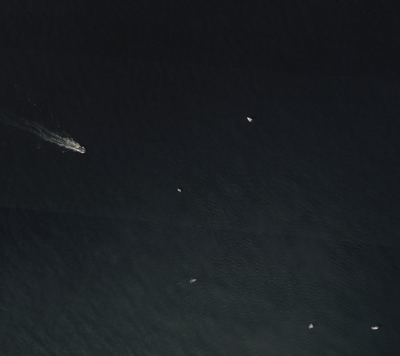boat: (78, 147, 87, 153), (247, 117, 253, 123), (372, 326, 380, 330), (309, 324, 314, 329), (191, 279, 197, 283), (178, 189, 182, 193)
